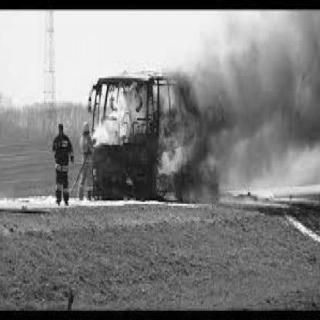Fire: (147, 73, 220, 199)
Smoke: (228, 9, 320, 198)
